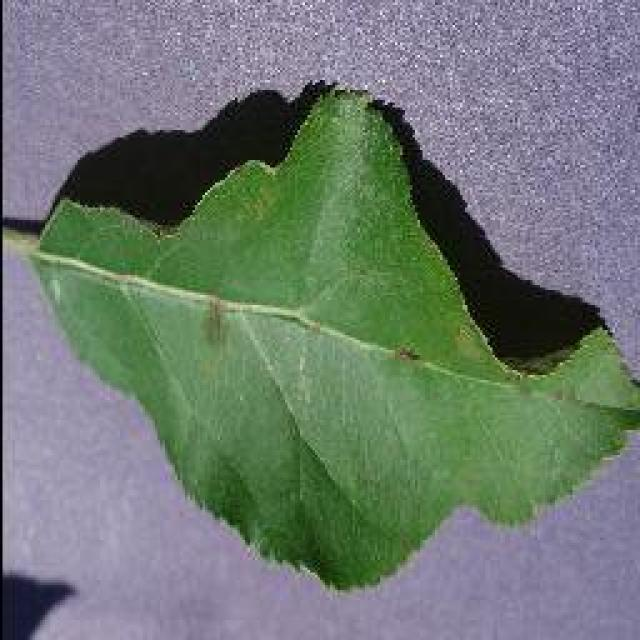apple scab disease: (15, 78, 637, 592)
